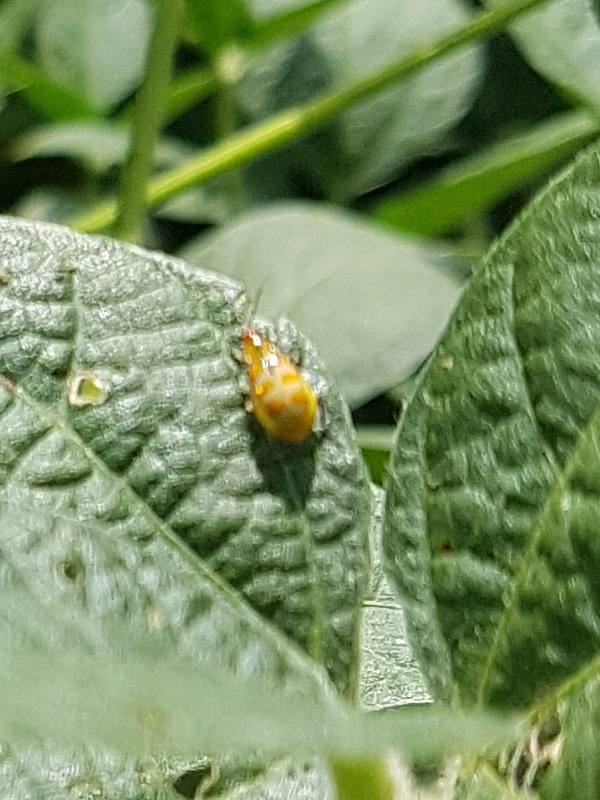Diabrotica_speciosa: (217, 323, 350, 457)
